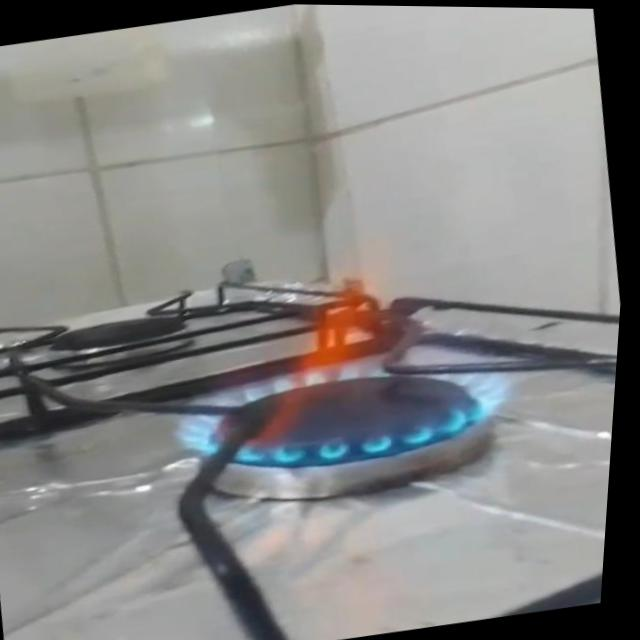Fire: (148, 230, 546, 493)
